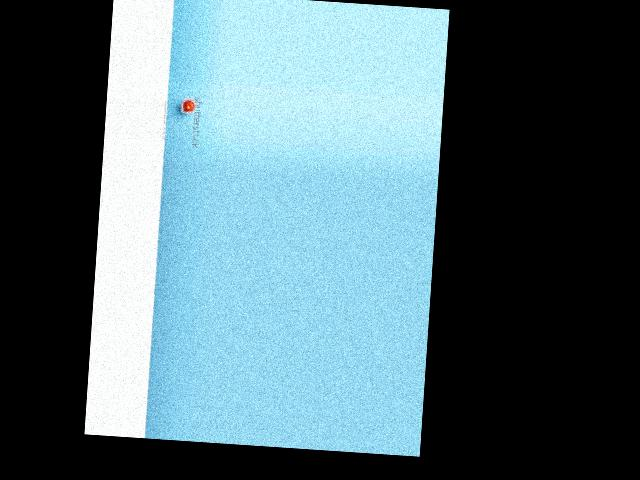tomato: (182, 101, 194, 112)
